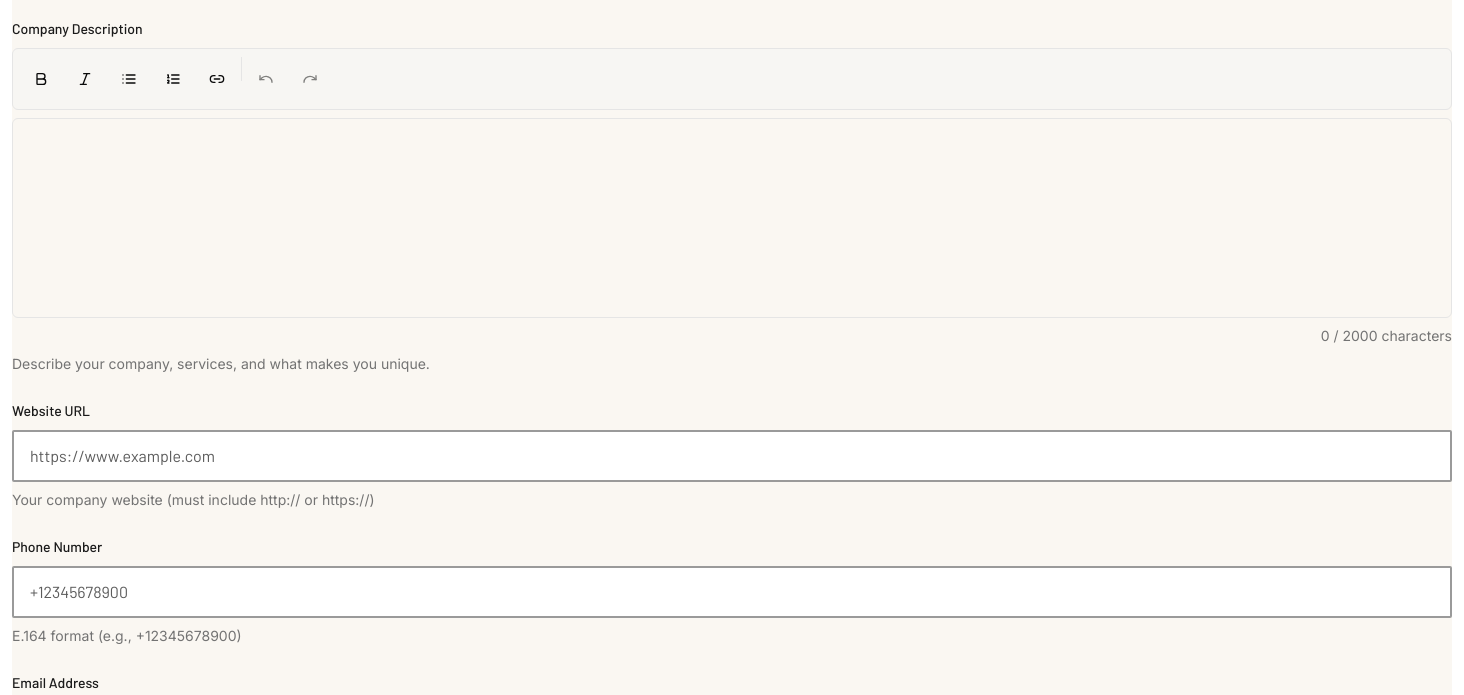
Test: ProfileEditForm › Validation › should validate phone number E.164 format
This screenshot has width=1464, height=695.
Type "0123" into the field labelled "Phone Number" at (732, 592), box x1=12 y1=566 x2=1452 y2=618
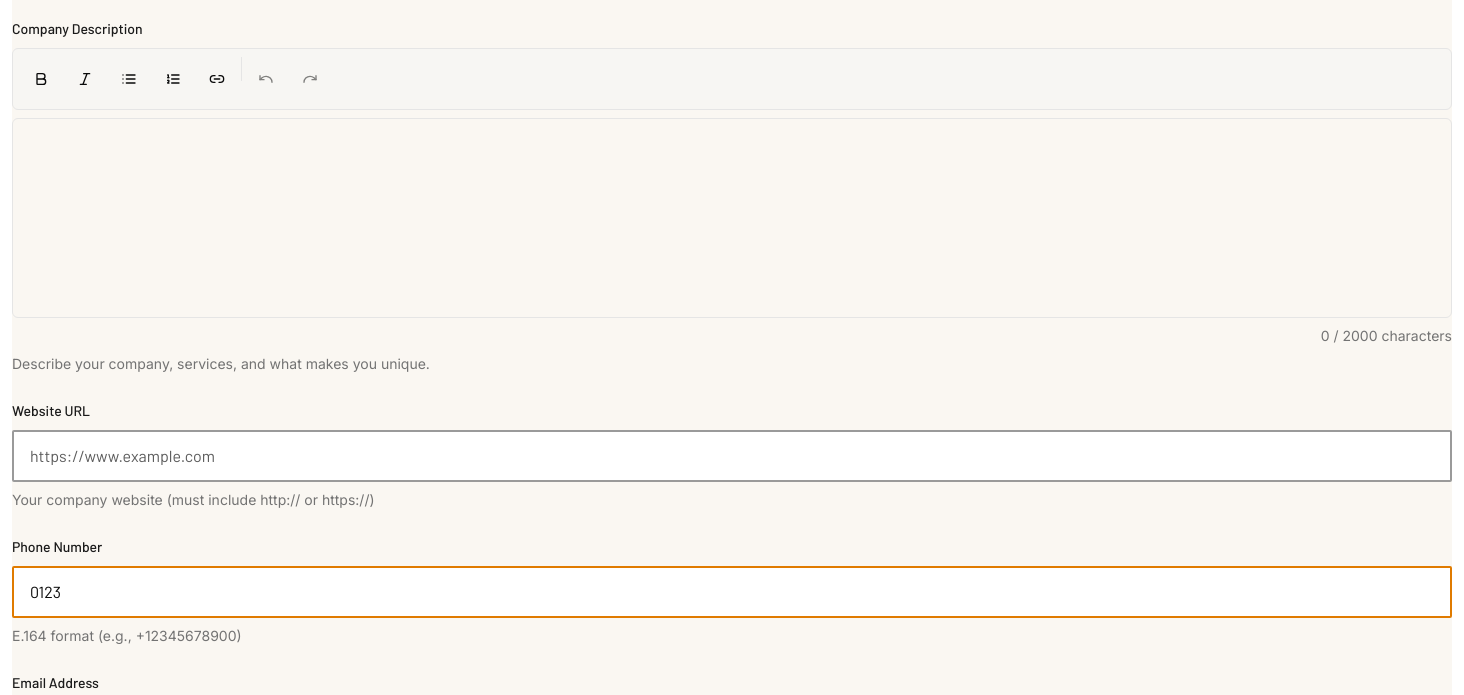
Press Tab
(page scrolled)
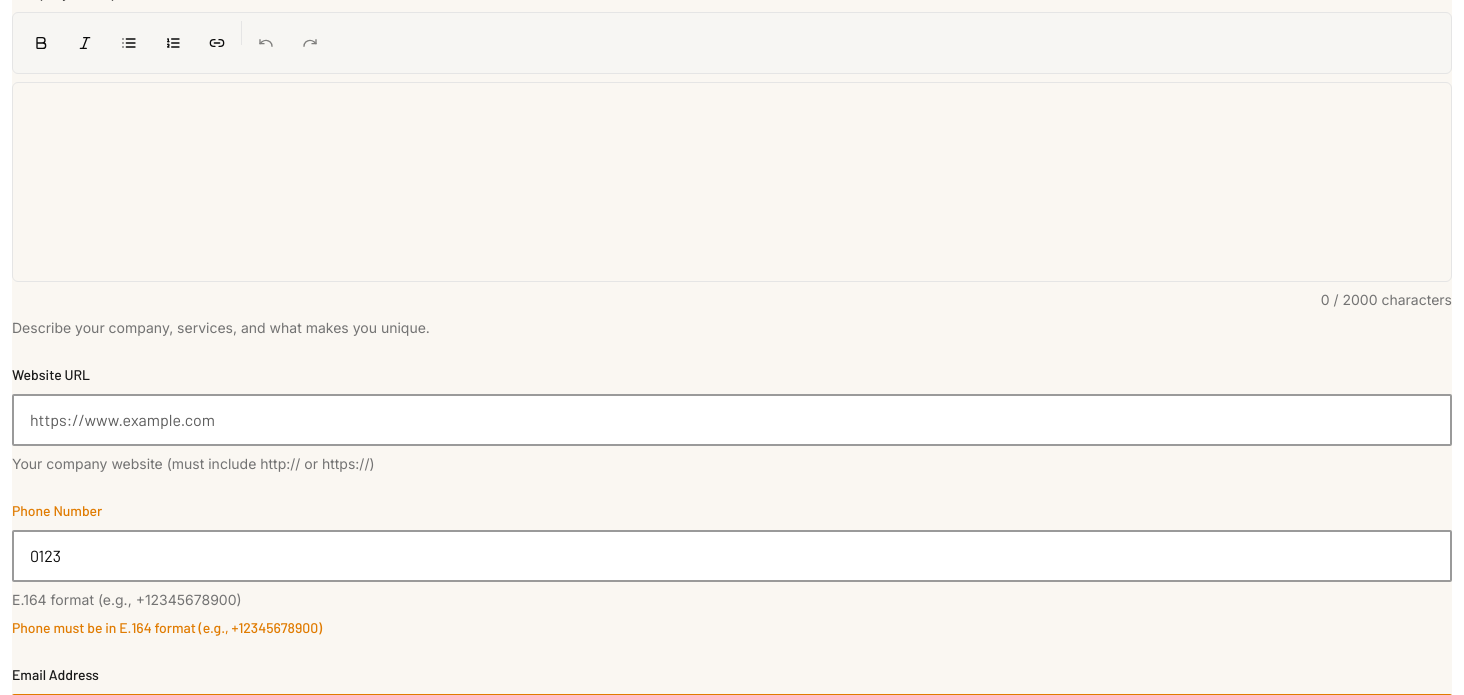
Now the text "Phone must be in E.164 format (e.g., +12345678900)" is shown, box x1=12 y1=619 x2=322 y2=636
